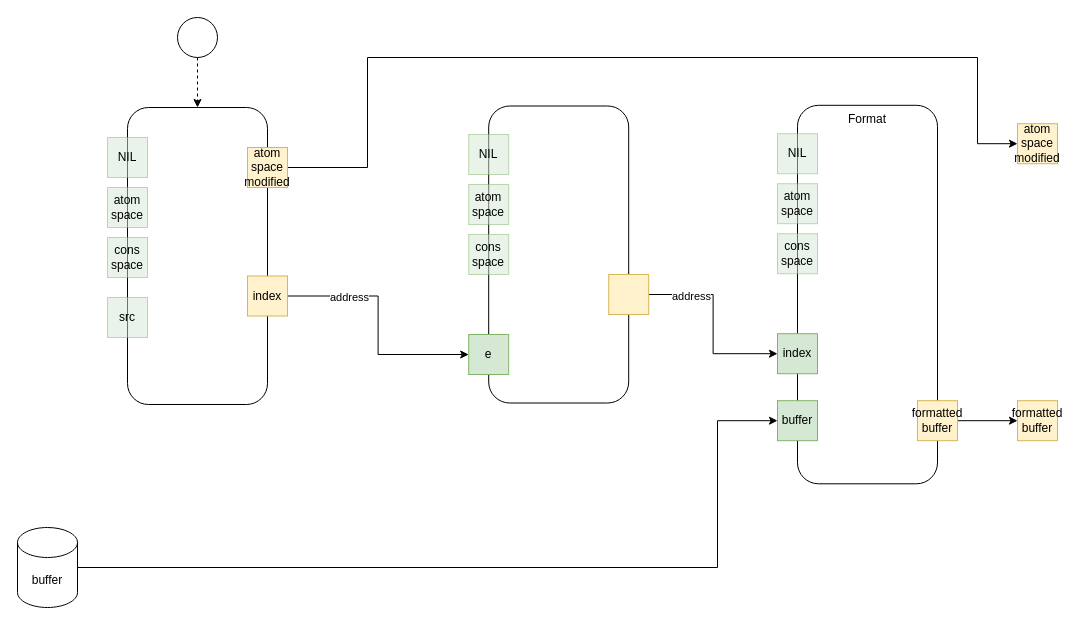
Image size: 1080x625. Some labels were removed from this diagram. Here are the shapes that lost their labels. From the top down, the box of each, then its label:
(126, 106, 268, 404): reader
(488, 105, 629, 403): Eval
(608, 274, 649, 314): result
